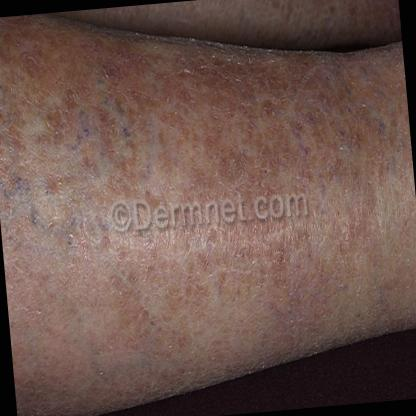Eczema: (0, 0, 416, 359), (12, 333, 367, 416)
